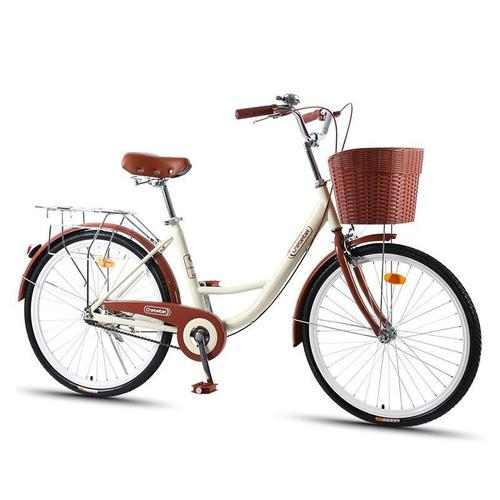单车: (10, 85, 488, 442)
